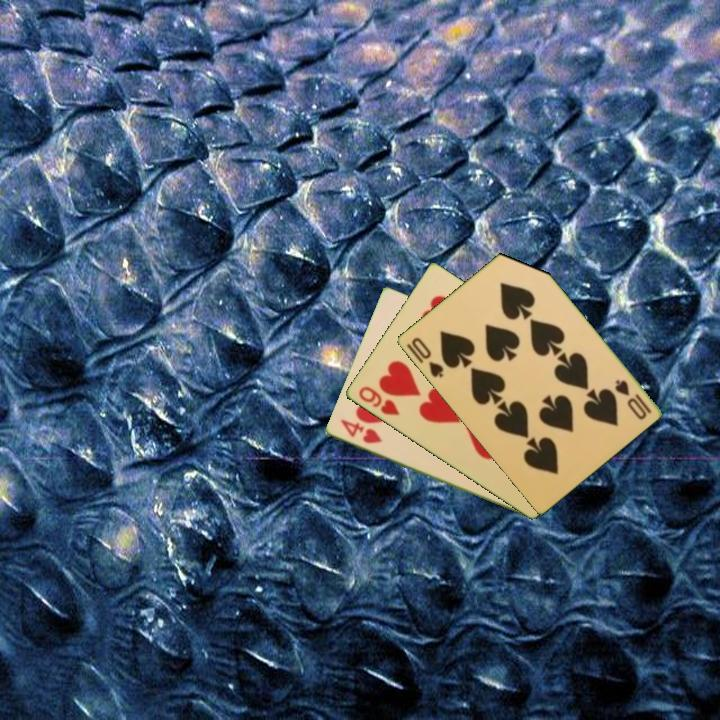10s: (611, 376, 654, 423), (408, 334, 446, 381)
4h: (336, 416, 385, 447)
9h: (354, 383, 402, 419)
